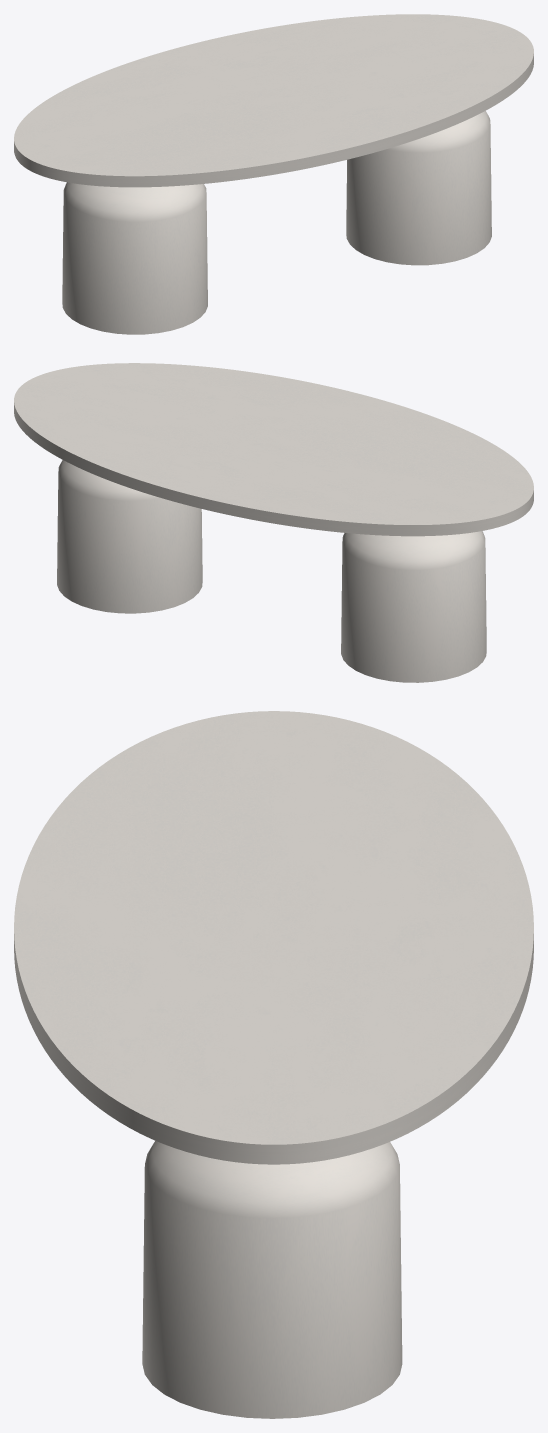
File: pearlwhite_ellips_standard_tornado.glb
3 views of the same model, one above another, from view 1: azimuth 30°, elevation 25°; view 2: azimuth 150°, elevation 25°; view 3: azimuth 270°, elevation 25° (orthographic). The views are drawn at different scales.
Visible parts, largest first — view 1: tabletop_ellips_standard.016, tableleg_tornado; view 2: tabletop_ellips_standard.016, tableleg_tornado; view 3: tabletop_ellips_standard.016, tableleg_tornado.
Boxes of the visible parts, x1,y1,x2,y2 form: tabletop_ellips_standard.016: (14,14,533,187); tableleg_tornado: (62,111,491,334); tabletop_ellips_standard.016: (14,363,533,536); tableleg_tornado: (57,460,486,682); tabletop_ellips_standard.016: (14,711,533,1164); tableleg_tornado: (142,1141,402,1418).
Size of the model in its own units: 7.5 by 2.5 by 3.8.
Materials: 1 (1 with a texture image).
